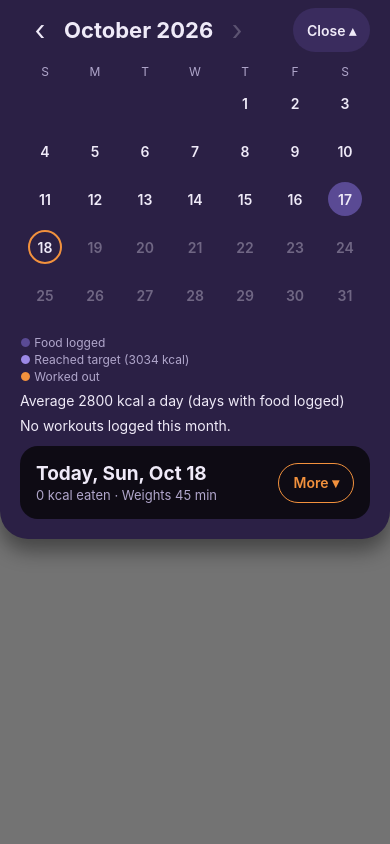
Test: CalendarOverlay › says so when the open day has no food
The image size is (390, 844).
Click the button with aria-label "More about this day" at coordinates (316, 482), box [278,462,354,502]
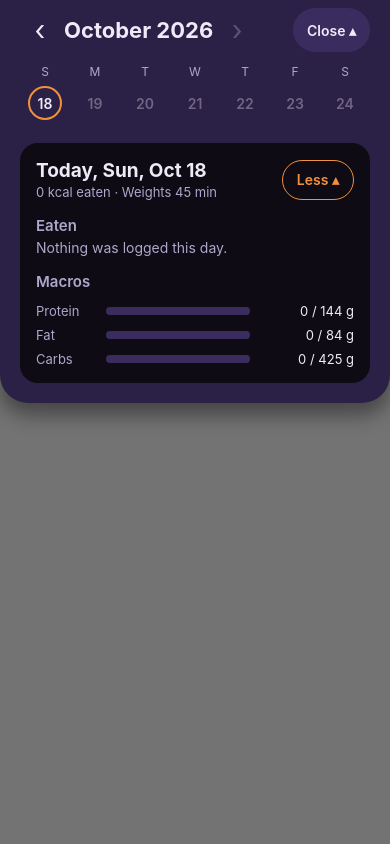
Expected: the text "Nothing was logged this day." is shown, [36,239,227,256]
